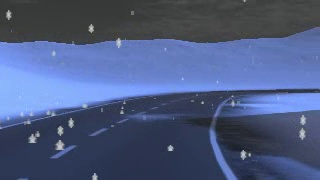Lane: (0, 89, 313, 179)
